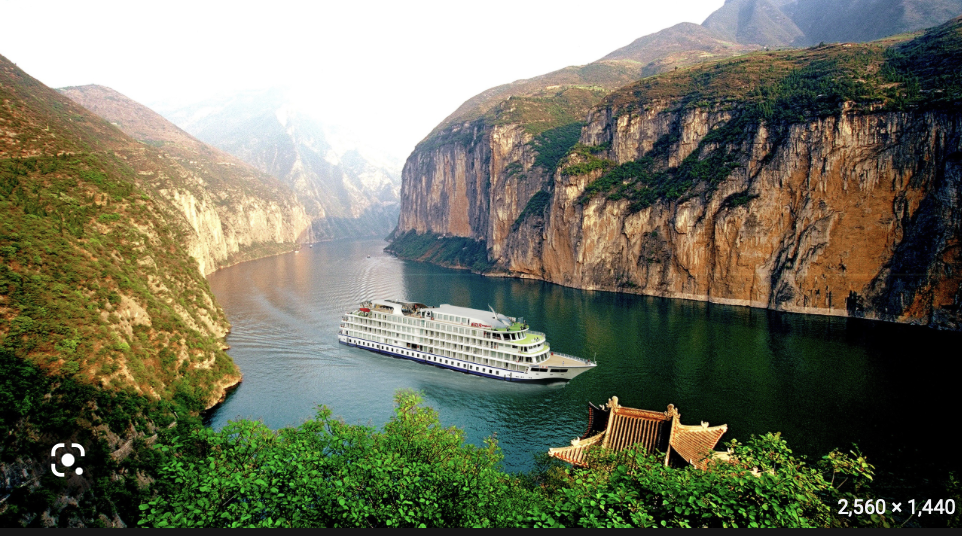ship: (343, 282, 590, 394)
